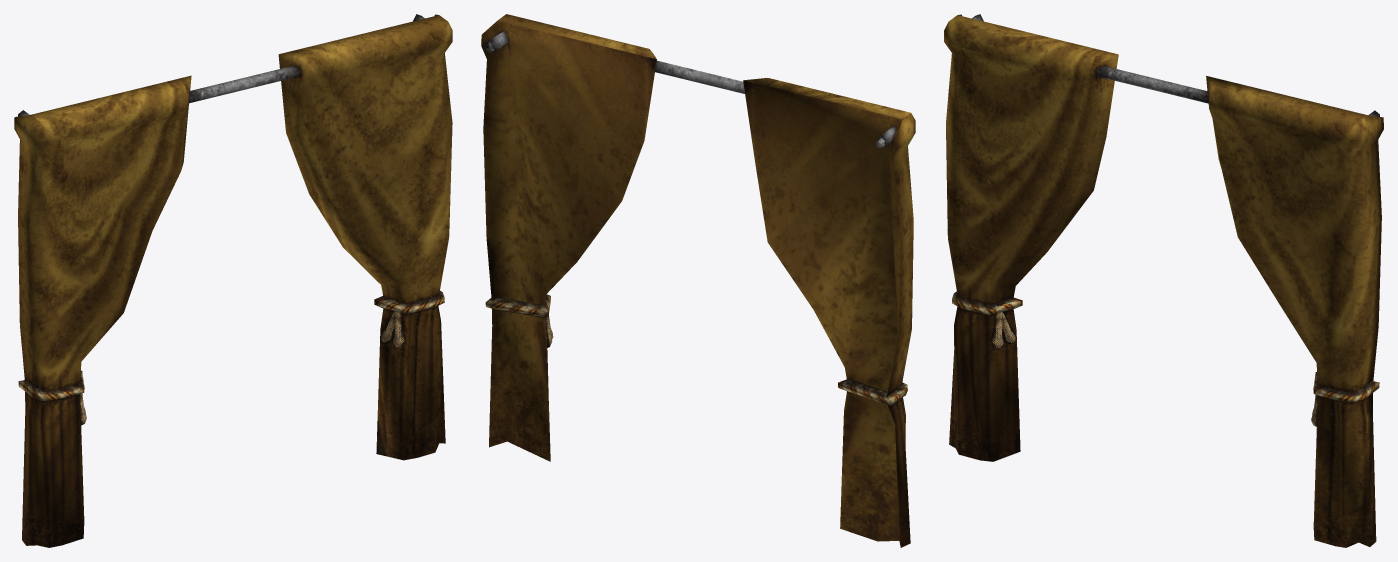
Rendered from curtain13_open.dae.
3 views of the same model, side by side, from view 1: azimuth 30°, elevation 25°; view 2: azimuth 150°, elevation 25°; view 3: azimuth 330°, elevation 25° (orthographic).
Parts seen in each view (by area): view 1: curtain01_open; view 2: curtain01_open; view 3: curtain01_open.
Part boxes in pixels (box(x1,y1,x2,y2)): curtain01_open: box(14, 14, 452, 547); curtain01_open: box(481, 14, 915, 547); curtain01_open: box(944, 14, 1383, 547).
Bounding box in the file's own units: 3.75 × 3.68 × 0.4366.
